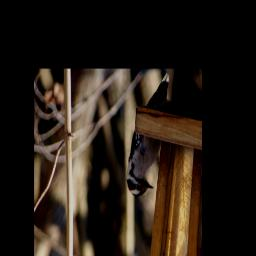Woodpecker: (126, 75, 198, 197)
